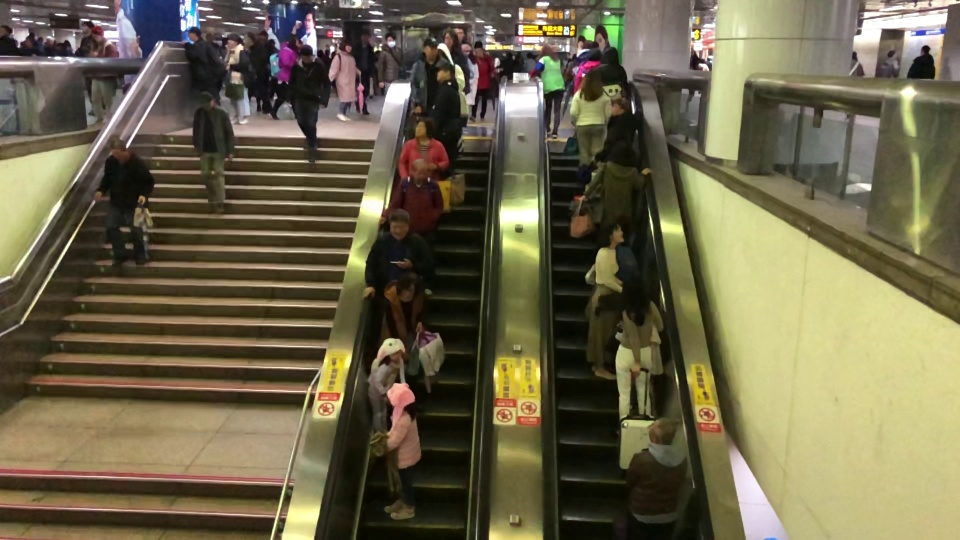person_head: (620, 276, 650, 313), (647, 415, 677, 447), (388, 205, 413, 242), (387, 382, 416, 413), (394, 272, 421, 302), (599, 219, 626, 246), (610, 139, 636, 167), (410, 157, 431, 189), (382, 337, 404, 364), (413, 116, 437, 140), (434, 61, 456, 84), (109, 138, 130, 162), (607, 96, 631, 117), (582, 69, 602, 94), (421, 36, 439, 62), (197, 91, 217, 110), (300, 43, 314, 67), (442, 28, 457, 49), (602, 47, 619, 65), (383, 30, 399, 47), (185, 26, 202, 41), (227, 33, 242, 50), (90, 25, 104, 43), (287, 37, 303, 52), (358, 28, 373, 44), (473, 39, 485, 57), (80, 20, 95, 34), (338, 39, 353, 53), (538, 43, 553, 57), (580, 39, 597, 51), (586, 49, 602, 61), (0, 24, 12, 38), (257, 30, 269, 44), (886, 48, 899, 60), (456, 27, 464, 44), (921, 45, 930, 56), (850, 50, 858, 61)
person_vbox: (381, 156, 444, 296), (611, 280, 664, 435), (93, 137, 156, 267), (358, 273, 432, 383), (623, 417, 689, 540), (577, 143, 652, 247), (366, 208, 434, 322), (368, 382, 423, 522), (585, 220, 623, 380), (191, 89, 235, 213), (290, 43, 330, 162), (428, 61, 464, 177), (570, 72, 612, 169), (366, 336, 406, 435), (182, 27, 229, 106), (396, 119, 450, 183), (407, 34, 449, 116), (85, 24, 119, 124), (529, 43, 564, 138), (74, 19, 107, 116), (593, 100, 641, 166), (326, 42, 362, 122), (269, 38, 303, 119), (350, 27, 379, 114), (223, 33, 250, 124), (468, 40, 496, 123), (452, 23, 479, 106), (438, 27, 470, 96), (592, 46, 627, 102), (379, 30, 406, 96), (252, 29, 273, 113), (844, 49, 864, 120), (906, 44, 936, 78), (875, 47, 901, 77), (0, 26, 20, 55)
